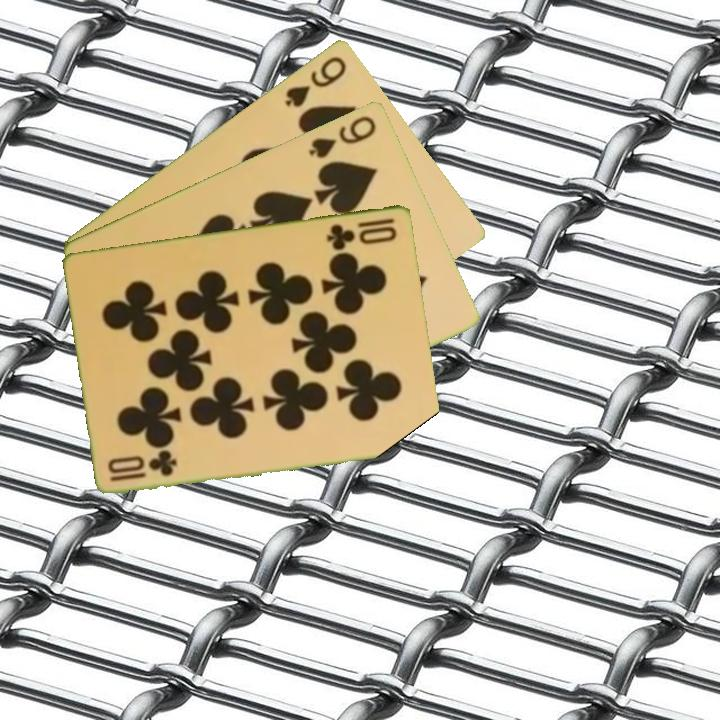10c: (323, 214, 400, 252), (104, 449, 181, 484)
9s: (281, 52, 350, 110), (305, 111, 380, 161)
